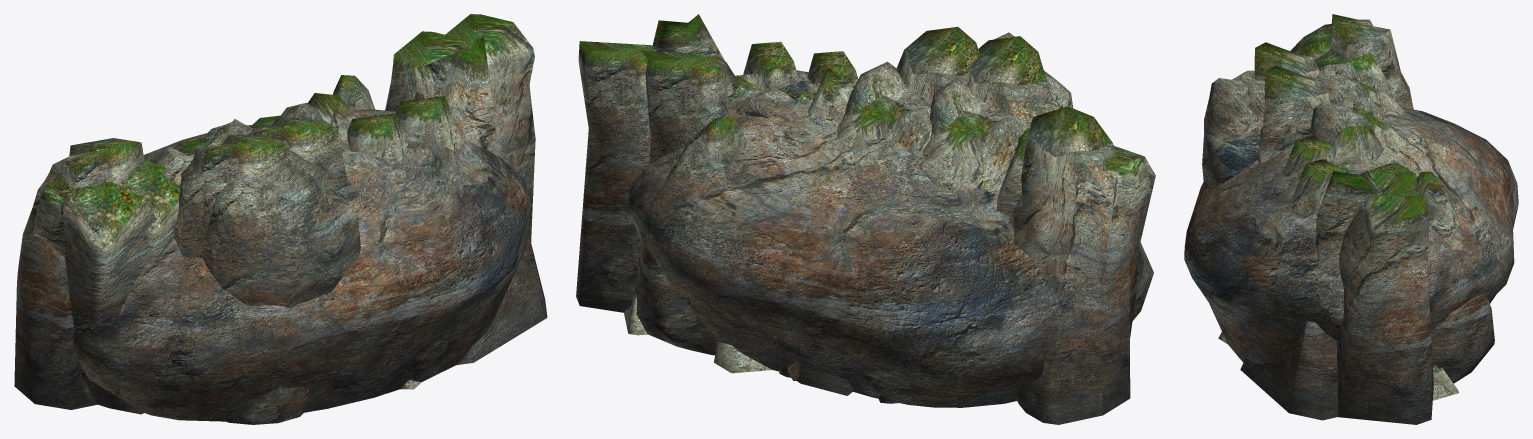
File: rocks.fbx
3 views of the same model, side by side, from view 1: azimuth 30°, elevation 25°; view 2: azimuth 150°, elevation 25°; view 3: azimuth 270°, elevation 25° (orthographic). The views are drawn at different scales.
Parts seen in each view (by area): view 1: Mesh_ncl1_1, Mesh_ncl1_25, Mesh_ncl1_26, Mesh_ncl1_24, Mesh_ncl1_27, Mesh_ncl1_23, Mesh_ncl1_12; view 2: Mesh_ncl1_1, Mesh_ncl1_25, Mesh_ncl1_27, Mesh_ncl1_26, Mesh_ncl1_12, Mesh_ncl1_24, Mesh_ncl1_21; view 3: Mesh_ncl1_1, Mesh_ncl1_27, Mesh_ncl1_25, Mesh_ncl1_24, Mesh_ncl1_26, Mesh_ncl1_12, Mesh_ncl1_23.
Boxes of the visible parts, box(x1,y1,x2,y2) form: Mesh_ncl1_1: box(73, 109, 532, 421); Mesh_ncl1_25: box(14, 36, 547, 409); Mesh_ncl1_26: box(33, 31, 466, 414); Mesh_ncl1_24: box(204, 159, 421, 424); Mesh_ncl1_27: box(118, 14, 535, 258); Mesh_ncl1_23: box(202, 151, 336, 260); Mesh_ncl1_12: box(233, 103, 323, 130); Mesh_ncl1_1: box(627, 70, 1153, 407); Mesh_ncl1_25: box(636, 14, 1139, 424); Mesh_ncl1_27: box(576, 26, 1029, 312); Mesh_ncl1_26: box(641, 36, 1155, 251); Mesh_ncl1_12: box(827, 61, 931, 151); Mesh_ncl1_24: box(624, 32, 1073, 373); Mesh_ncl1_21: box(797, 365, 852, 395); Mesh_ncl1_1: box(1184, 107, 1518, 364); Mesh_ncl1_27: box(1257, 51, 1433, 424); Mesh_ncl1_25: box(1240, 14, 1494, 420); Mesh_ncl1_24: box(1202, 70, 1458, 400); Mesh_ncl1_26: box(1254, 23, 1418, 213); Mesh_ncl1_12: box(1310, 95, 1405, 150); Mesh_ncl1_23: box(1237, 77, 1264, 160).
Size of the model in its own units: 4133 by 2047 by 2660.
